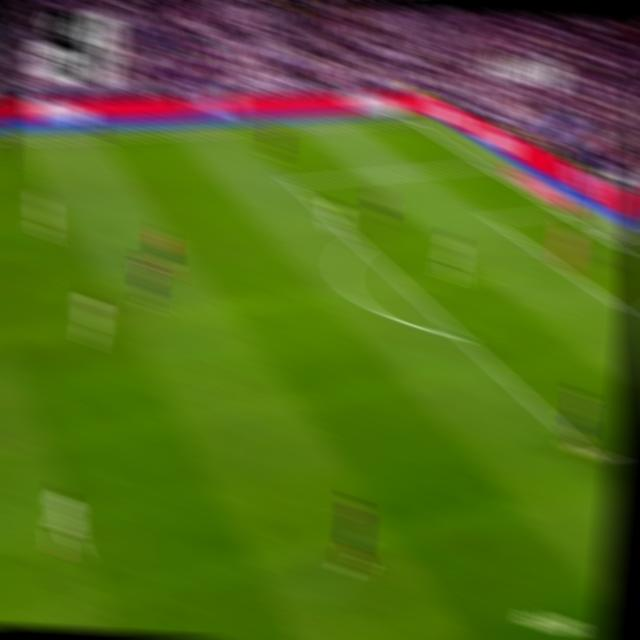bigarea_bottom_inner: (583, 446, 603, 468)
bigarea_top_inner: (284, 172, 305, 193)
bigarea_top_outter: (472, 157, 490, 171)
bottom_arc_area_intersection: (449, 324, 470, 346)
corner: (401, 112, 419, 124)
smallarea_top_inner: (483, 212, 501, 227)
top_arc_area_intersection: (350, 234, 368, 251)
